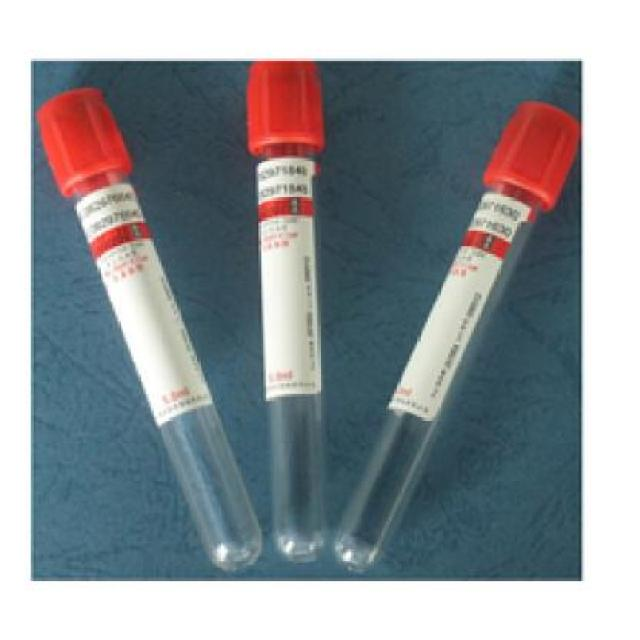Experimental-tube: (331, 95, 580, 576), (35, 82, 263, 569), (242, 57, 332, 560)
